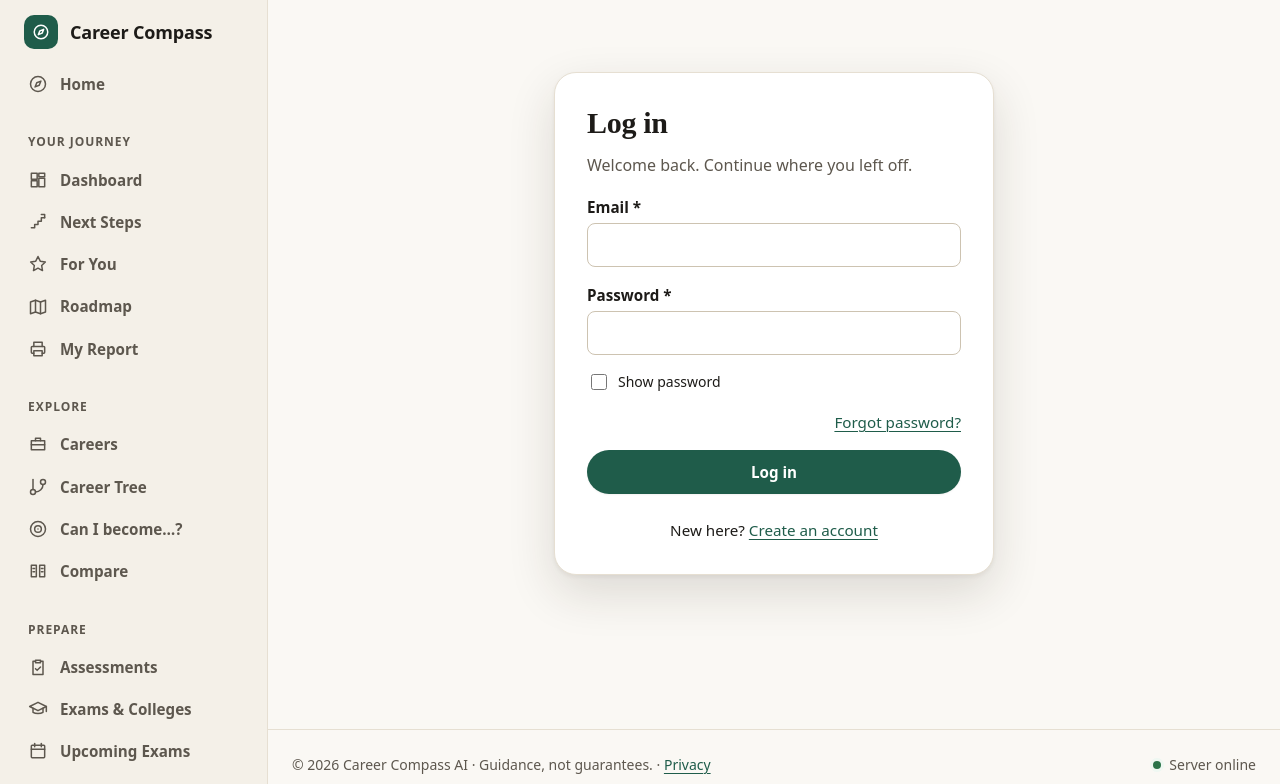
Test: Forgot and reset password › login page links to Forgot password
The width and height of the screenshot is (1280, 784).
Click the link "Forgot password?" at point(898, 422), box top-left (834, 412), bottom-right (961, 432)
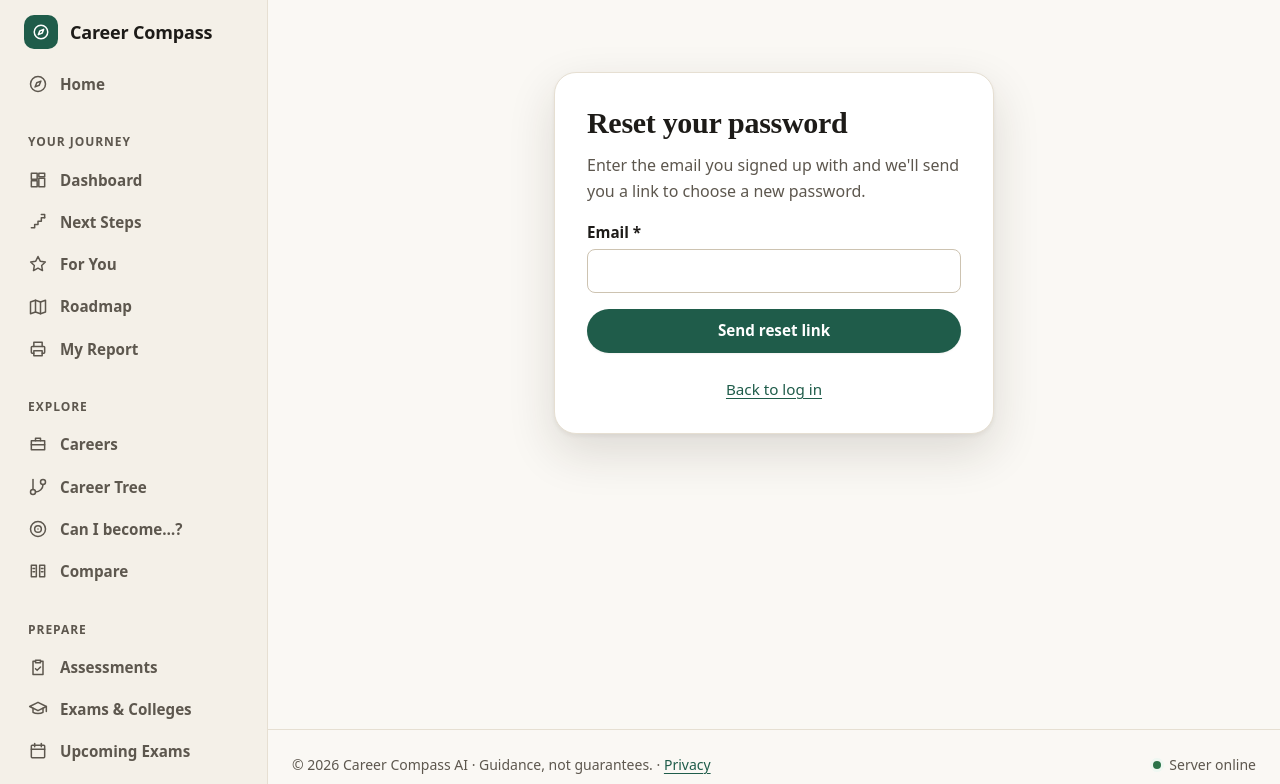
Now the heading "Reset your password" is shown, box top-left (587, 106), bottom-right (847, 139)
